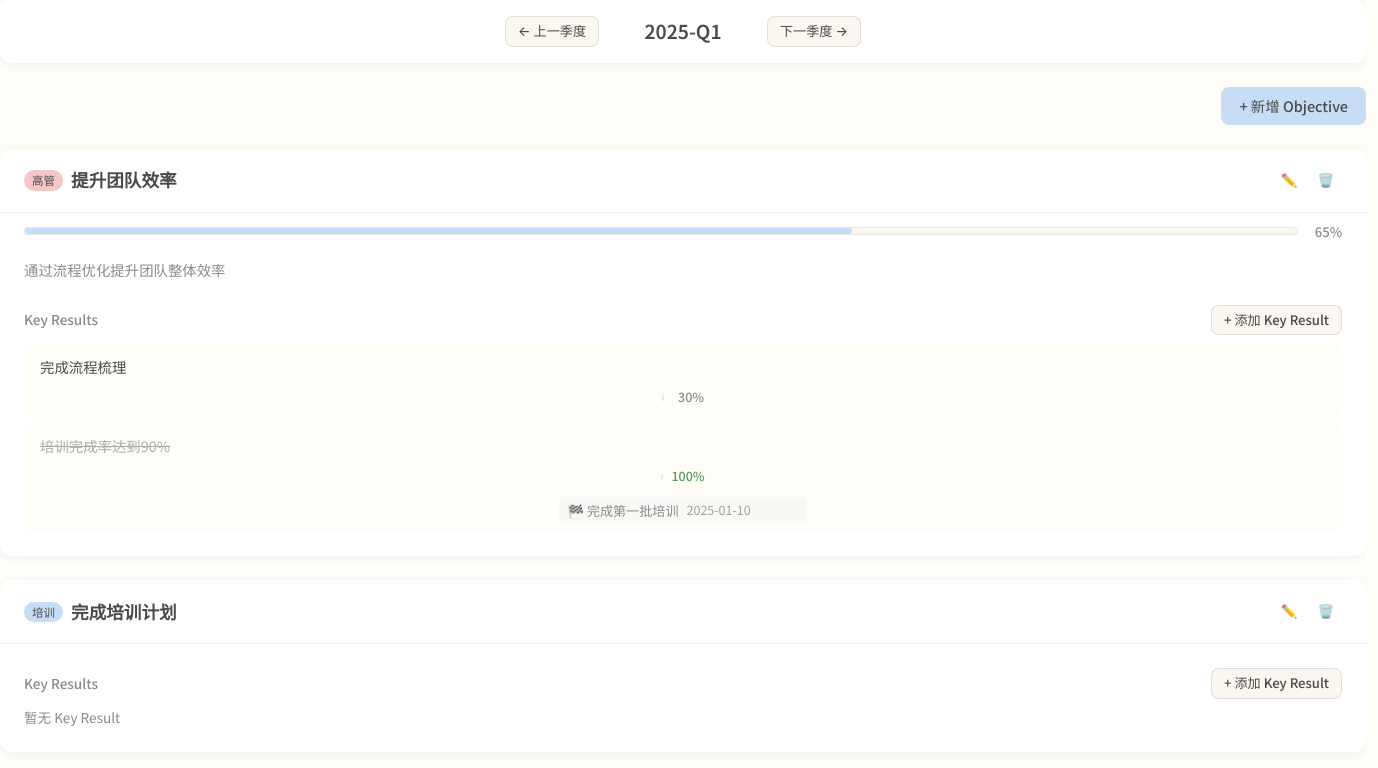
Test: OKRPage › navigates to next quarter
The image size is (1378, 768).
Expected: the text "2025-Q1" is shown, [644,17,722,45]
Click the button "下一季度 →" at x=814, y=31, box [767,16,861,47]
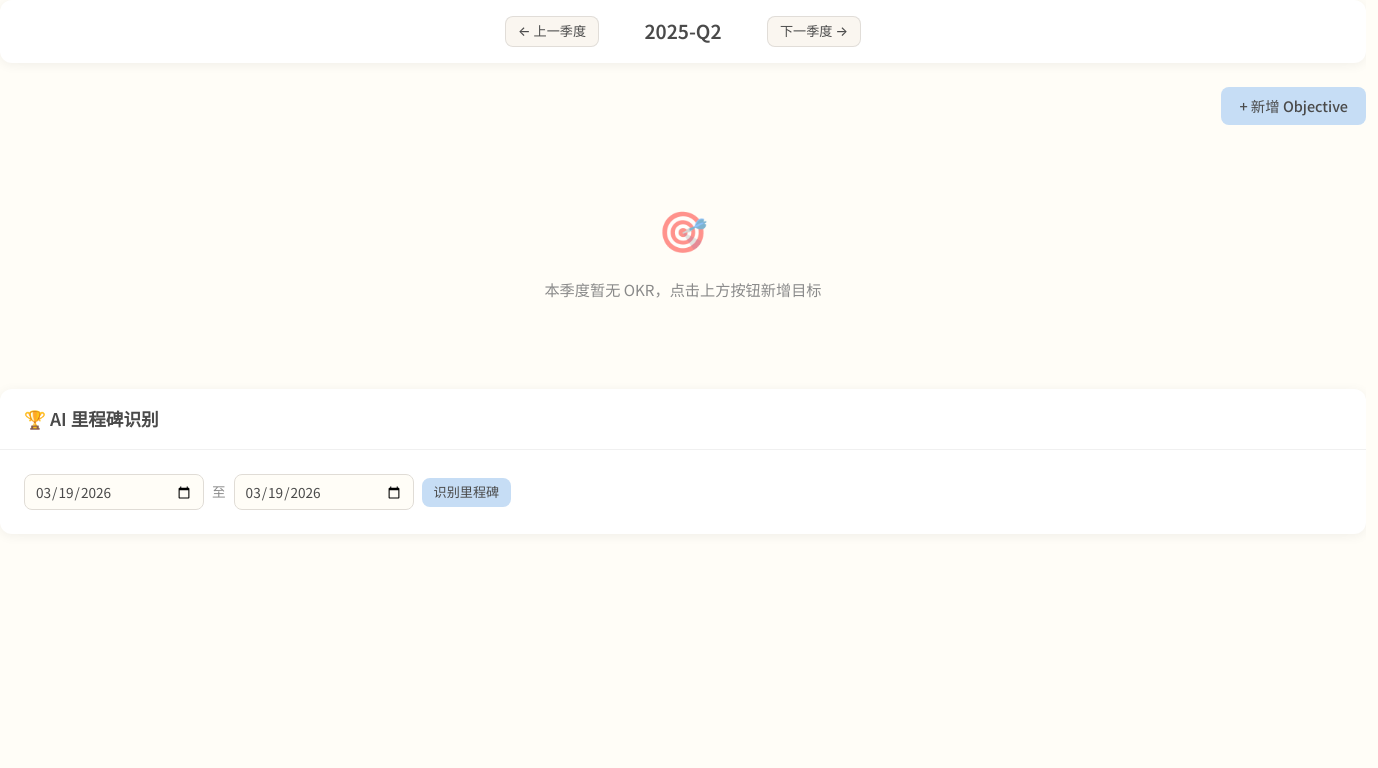
Now the text "2025-Q2" is shown, box [644,17,722,45]
